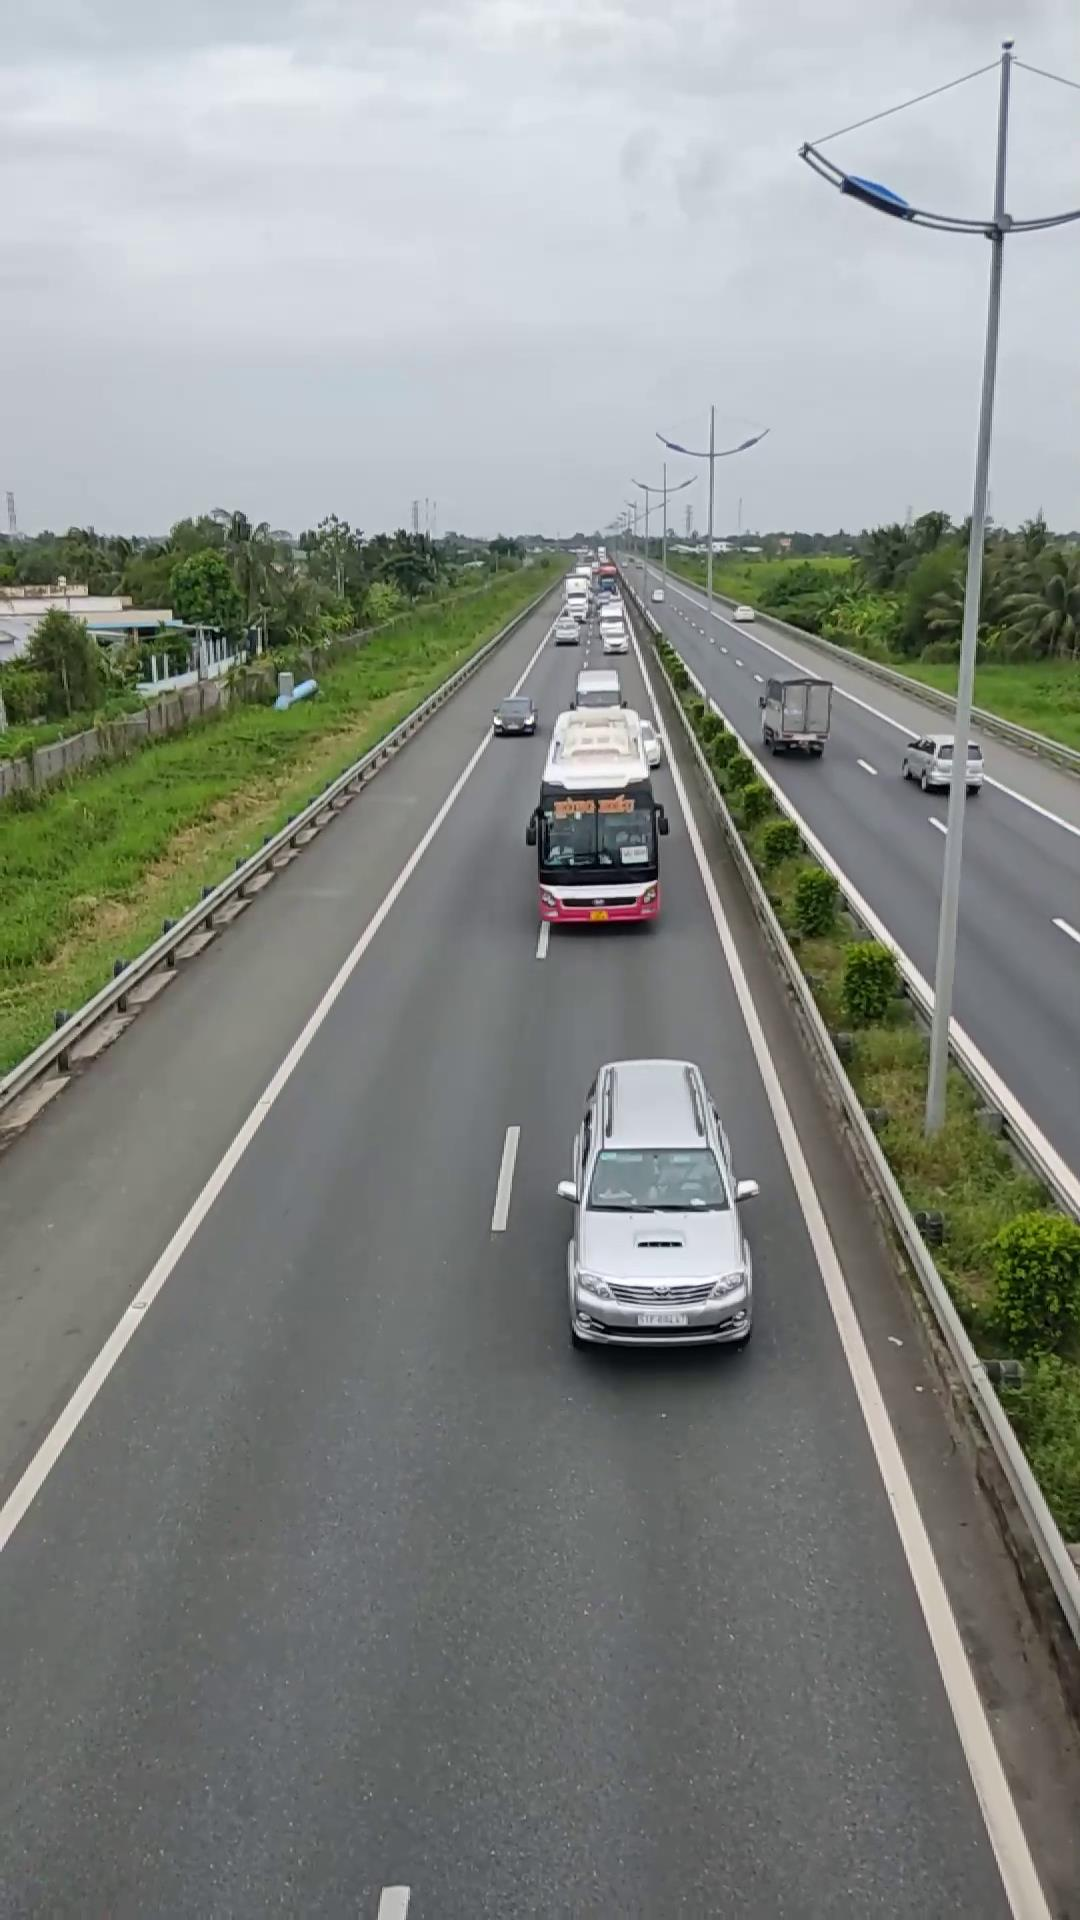bus: (527, 705, 667, 928)
car: (558, 1055, 760, 1352)
truck: (756, 670, 833, 756)
